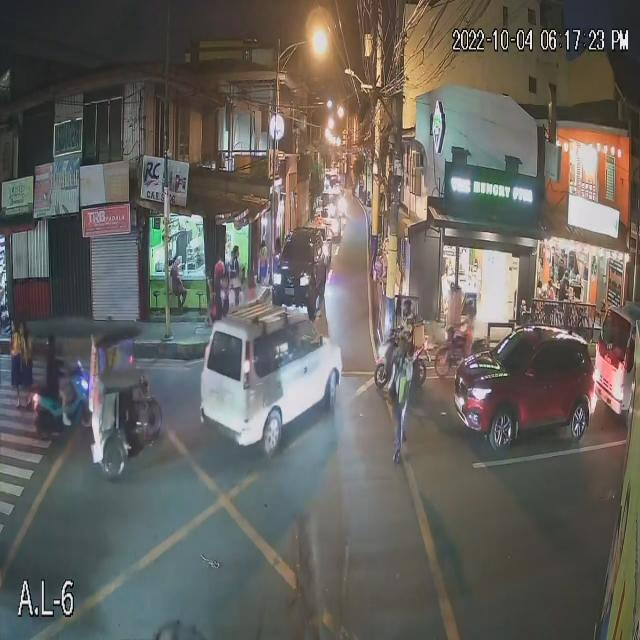helmet: (449, 306, 463, 321), (398, 303, 411, 318)
motorcycle: (68, 366, 163, 480), (29, 381, 107, 439), (374, 325, 428, 394), (429, 325, 475, 380)
rider: (392, 309, 419, 390), (444, 284, 471, 365), (45, 357, 67, 412)
